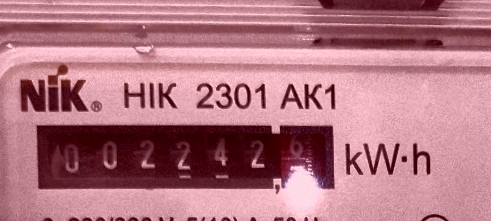0: (61, 141, 82, 175), (100, 138, 119, 171)
2: (174, 137, 193, 171), (138, 137, 157, 170), (248, 138, 266, 170)
4: (213, 135, 229, 168)
6: (288, 131, 304, 158)
screen: (26, 108, 345, 205)
